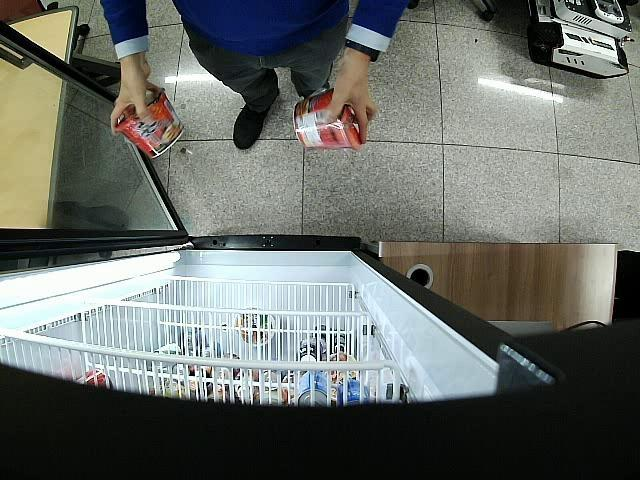01_ShinRamen_L: (113, 87, 184, 158), (294, 90, 359, 150)
